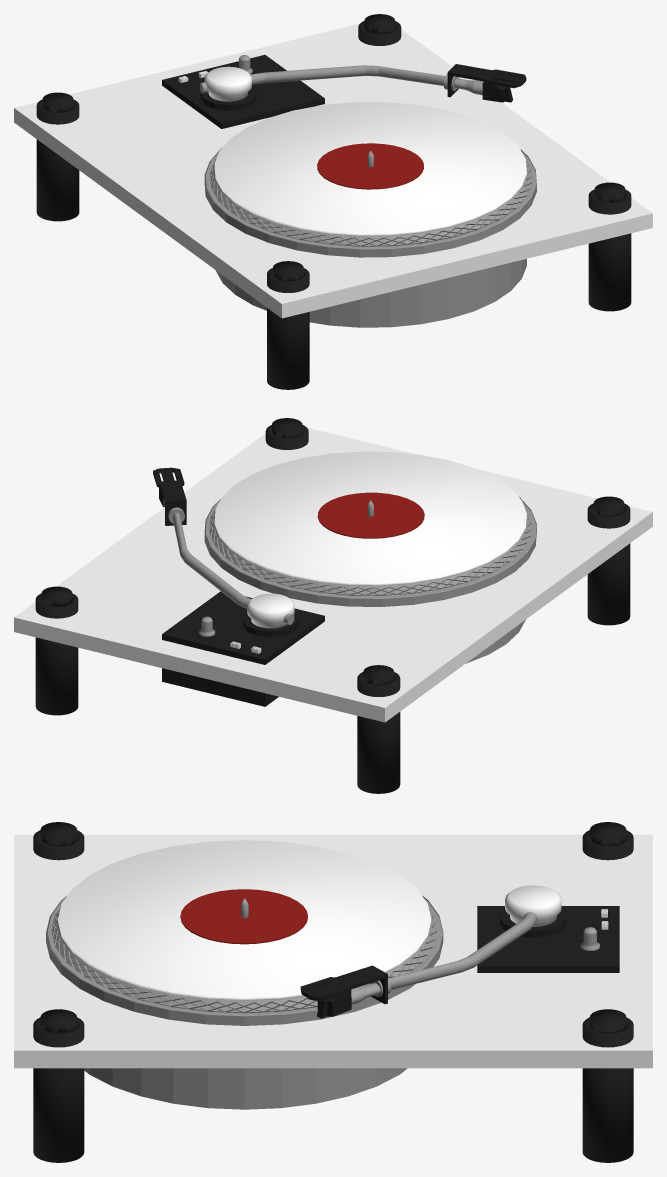
Rendered from vinylPlayer2.glb.
The picture shows the model from 3 angles, top to bottom: view 1: azimuth 30°, elevation 25°; view 2: azimuth 150°, elevation 25°; view 3: azimuth 270°, elevation 25°; orthographic projection. The views are drawn at different scales.
Parts seen in each view (by area): view 1: Cube, Cylinder, Cylinder.005, Cylinder.002, Cube.001, Cylinder.004, Cylinder.007, Cylinder.006, Cube.002; view 2: Cube, Cylinder, Cylinder.002, Cylinder.005, Cube.001, Cylinder.004, Cylinder.007, Cylinder.006, Cube.002; view 3: Cube, Cylinder, Cylinder.005, Cylinder.002, Cube.001, Cylinder.004, Cylinder.007, Cylinder.006, Cube.002, Cube.003.
Boxes of the visible parts, bbox=[...] form: Cube: bbox=[14, 23, 652, 318]; Cylinder: bbox=[214, 102, 526, 235]; Cylinder.005: bbox=[204, 147, 536, 327]; Cylinder.002: bbox=[36, 14, 631, 389]; Cube.001: bbox=[162, 55, 324, 128]; Cylinder.004: bbox=[317, 143, 423, 189]; Cylinder.007: bbox=[199, 65, 458, 93]; Cylinder.006: bbox=[204, 66, 251, 101]; Cube.002: bbox=[447, 64, 526, 97]; Cube: bbox=[14, 427, 652, 722]; Cylinder: bbox=[214, 451, 526, 585]; Cylinder.002: bbox=[35, 418, 630, 793]; Cylinder.005: bbox=[204, 497, 536, 663]; Cube.001: bbox=[162, 591, 324, 706]; Cylinder.004: bbox=[317, 492, 424, 538]; Cylinder.007: bbox=[168, 507, 294, 624]; Cylinder.006: bbox=[247, 593, 294, 628]; Cube.002: bbox=[153, 467, 186, 525]; Cube: bbox=[14, 834, 652, 1068]; Cylinder: bbox=[58, 840, 431, 999]; Cylinder.005: bbox=[46, 895, 443, 1109]; Cylinder.002: bbox=[33, 822, 633, 1162]; Cube.001: bbox=[477, 906, 619, 972]; Cylinder.004: bbox=[180, 889, 307, 944]; Cylinder.007: bbox=[369, 912, 536, 997]; Cylinder.006: bbox=[505, 885, 561, 926]; Cube.002: bbox=[300, 965, 387, 1004]; Cube.003: bbox=[317, 990, 351, 1018].
Size of the model in its own units: 0.4003 by 0.1457 by 0.5.
